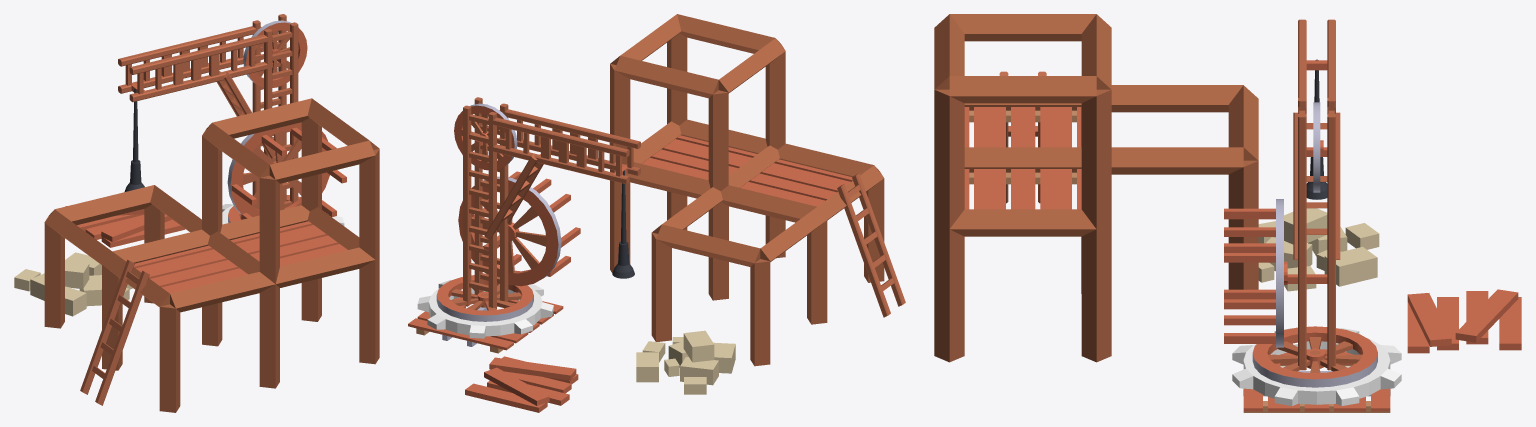
Rendered from zone_de_construction.glb.
3 views of the same model, side by side, from view 1: azimuth 30°, elevation 25°; view 2: azimuth 150°, elevation 25°; view 3: azimuth 270°, elevation 25° (orthographic). The views are drawn at different scales.
Visible parts, largest first — view 1: mergedBlocks(Clone); view 2: mergedBlocks(Clone); view 3: mergedBlocks(Clone).
Boxes of the visible parts, box(x1,y1,x2,y2) form: mergedBlocks(Clone): box(14, 14, 379, 412); mergedBlocks(Clone): box(408, 14, 905, 412); mergedBlocks(Clone): box(934, 14, 1521, 412).
Size of the model in its own units: 3.6 by 2.11 by 3.99.
1 material, 1 textured.
